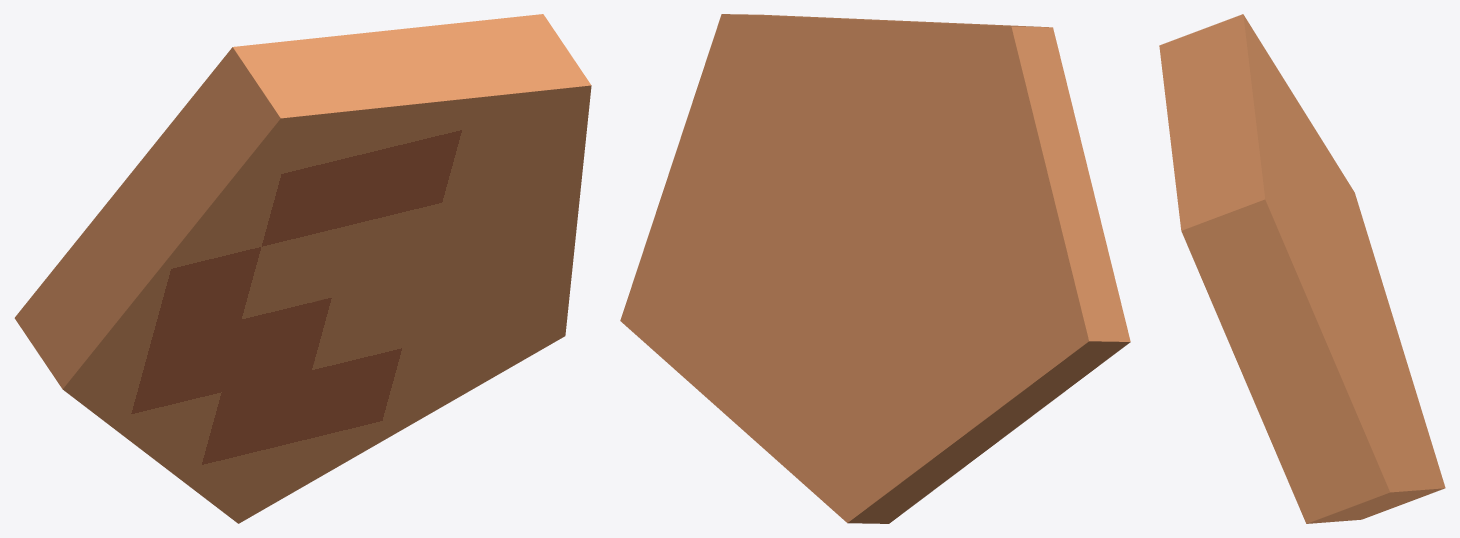
The model's file is Smithy_ear_right.dae.
3 views of the same model, side by side, from view 1: azimuth 30°, elevation 25°; view 2: azimuth 150°, elevation 25°; view 3: azimuth 270°, elevation 25° (orthographic). The views are drawn at different scales.
Parts seen in each view (by area): view 1: ear_l; view 2: ear_l; view 3: ear_l.
Boxes of the visible parts, box(x1,y1,x2,y2) form: ear_l: box(14, 14, 591, 523); ear_l: box(620, 14, 1130, 523); ear_l: box(1159, 14, 1445, 523).
Bounding box in the file's own units: 0.3618 × 0.36 × 0.197.
1 material, 1 textured.
